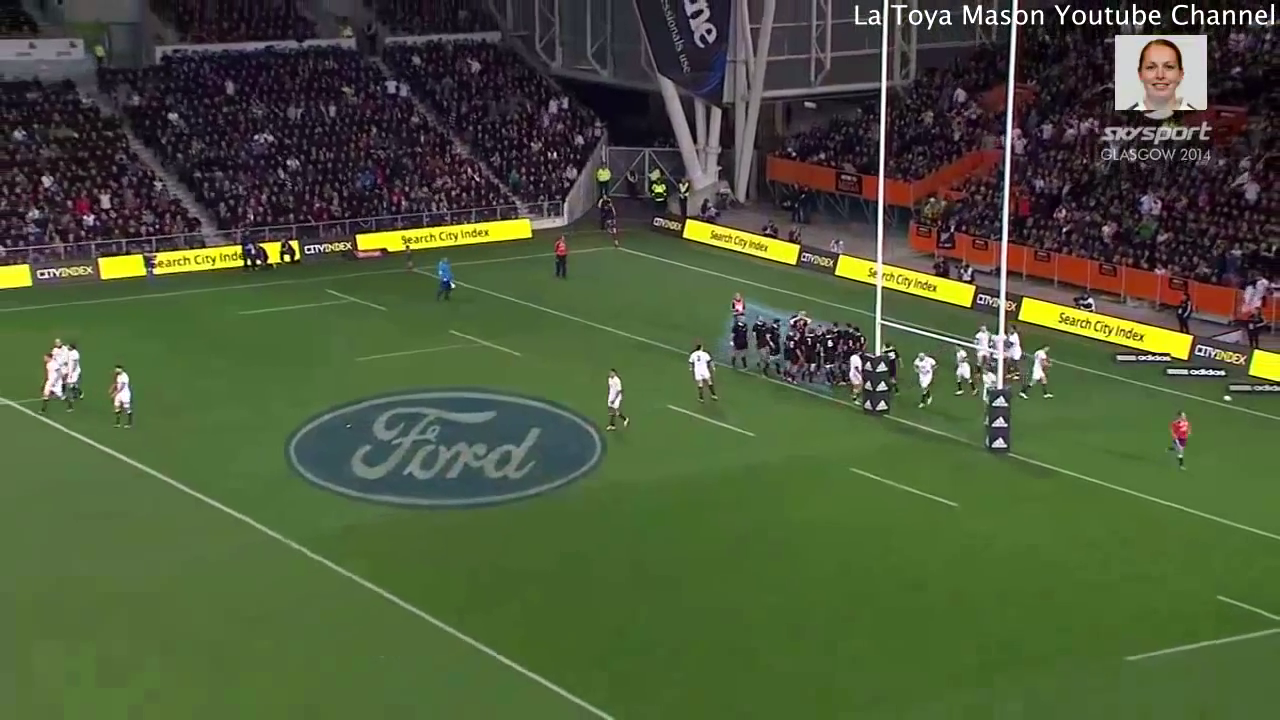player: (31, 349, 78, 419), (905, 346, 944, 422), (683, 342, 724, 410), (1158, 402, 1195, 476), (102, 356, 137, 434), (595, 364, 630, 434), (1020, 341, 1059, 402), (945, 339, 978, 405), (62, 339, 89, 406), (879, 338, 907, 398), (431, 252, 463, 304), (726, 310, 752, 371), (817, 326, 841, 391), (1005, 322, 1030, 384), (748, 312, 769, 381), (843, 347, 866, 409), (764, 314, 784, 381), (549, 232, 575, 283), (782, 325, 803, 387), (969, 319, 992, 372), (801, 323, 820, 386), (729, 288, 750, 319), (842, 320, 857, 362), (47, 331, 66, 363), (851, 324, 869, 353)
post: (852, 1, 1030, 469)
